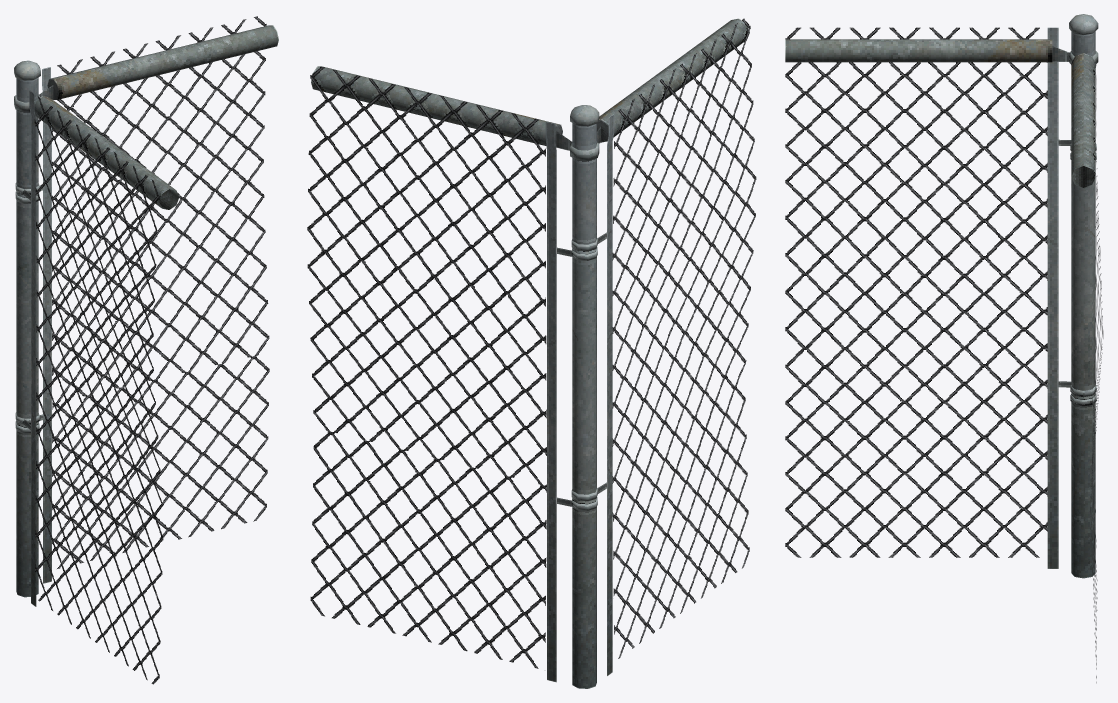
File: chain_link_fence_ext_corner.glb
3 renders of one model, left to right at view 1: azimuth 30°, elevation 25°; view 2: azimuth 150°, elevation 25°; view 3: azimuth 270°, elevation 25°, orthographic. The views are drawn at different scales.
Parts seen in each view (by area): view 1: chain_link_fence_ext_corner; view 2: chain_link_fence_ext_corner; view 3: chain_link_fence_ext_corner.
Boxes of the visible parts, x1,y1,x2,y2 form: chain_link_fence_ext_corner: [14, 16, 278, 684]; chain_link_fence_ext_corner: [307, 18, 756, 688]; chain_link_fence_ext_corner: [785, 14, 1103, 683].
Size of the model in its own units: 1.07 by 2.06 by 1.07.
2 materials, 2 textured.
